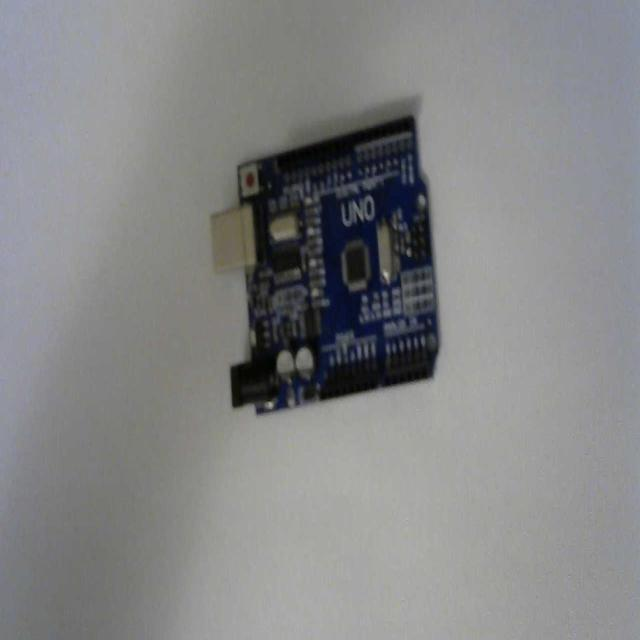arduino: (211, 112, 443, 419)
